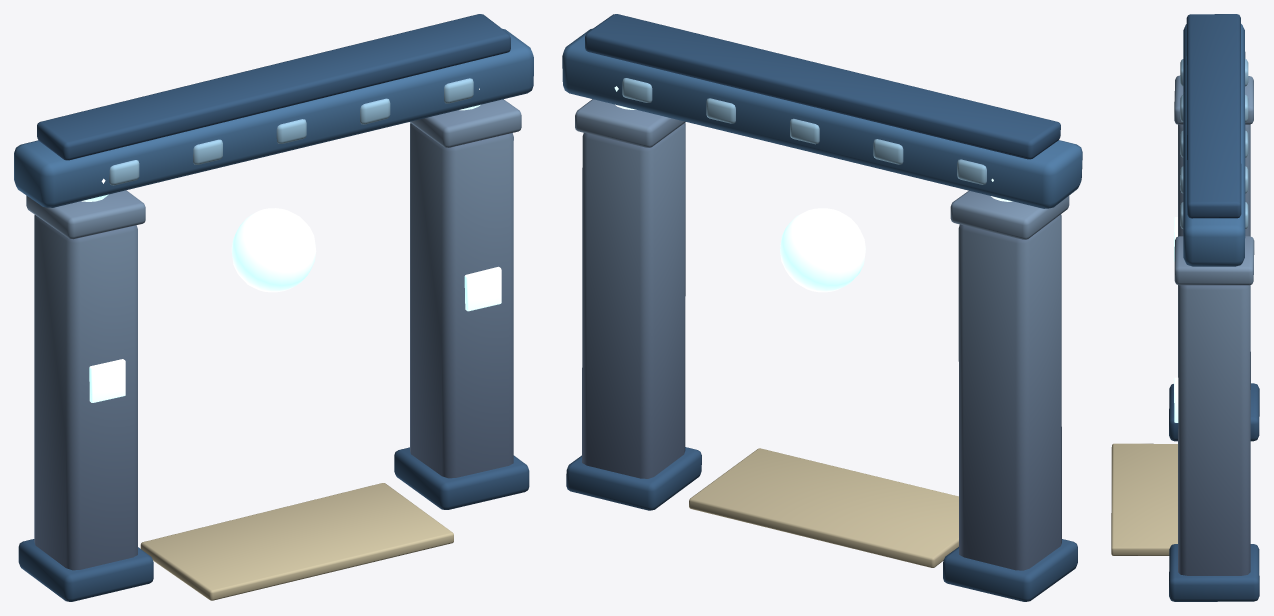
The picture shows the model from 3 angles, left to right: view 1: azimuth 30°, elevation 25°; view 2: azimuth 150°, elevation 25°; view 3: azimuth 270°, elevation 25°; orthographic projection. The views are drawn at different scales.
Parts seen in each view (by area): view 1: gate_b7c85f3e; view 2: gate_b7c85f3e; view 3: gate_b7c85f3e.
Boxes of the visible parts, <box> form: gate_b7c85f3e: <box>14,14,533,601</box>; gate_b7c85f3e: <box>562,14,1082,601</box>; gate_b7c85f3e: <box>1111,14,1259,601</box>.
Size of the model in its own units: 4.84 by 4.26 by 1.44.
